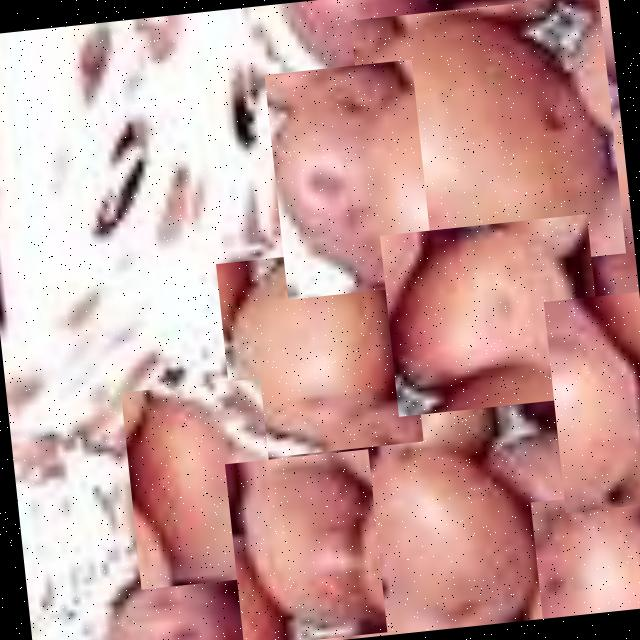Defected potato: (349, 0, 625, 278), (380, 212, 606, 416), (215, 242, 424, 460), (338, 432, 544, 638), (264, 58, 435, 298), (120, 376, 280, 588), (224, 447, 386, 640), (543, 290, 640, 511), (530, 487, 640, 618), (102, 567, 254, 640)
